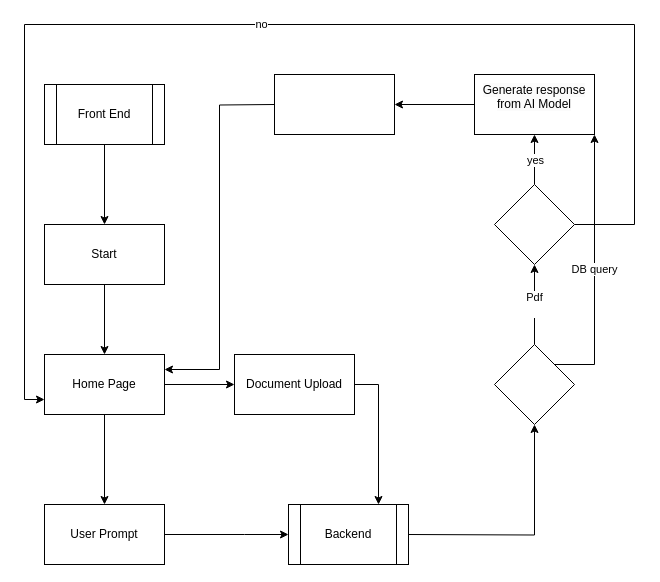
This 660x582 diagram has some shape labels left out. The centre of each missing label's shape, as x and y in pixels:
Document Available?: the point at 534,224
Pdf or DB prompt: the point at 534,384
Response: the point at 334,104
